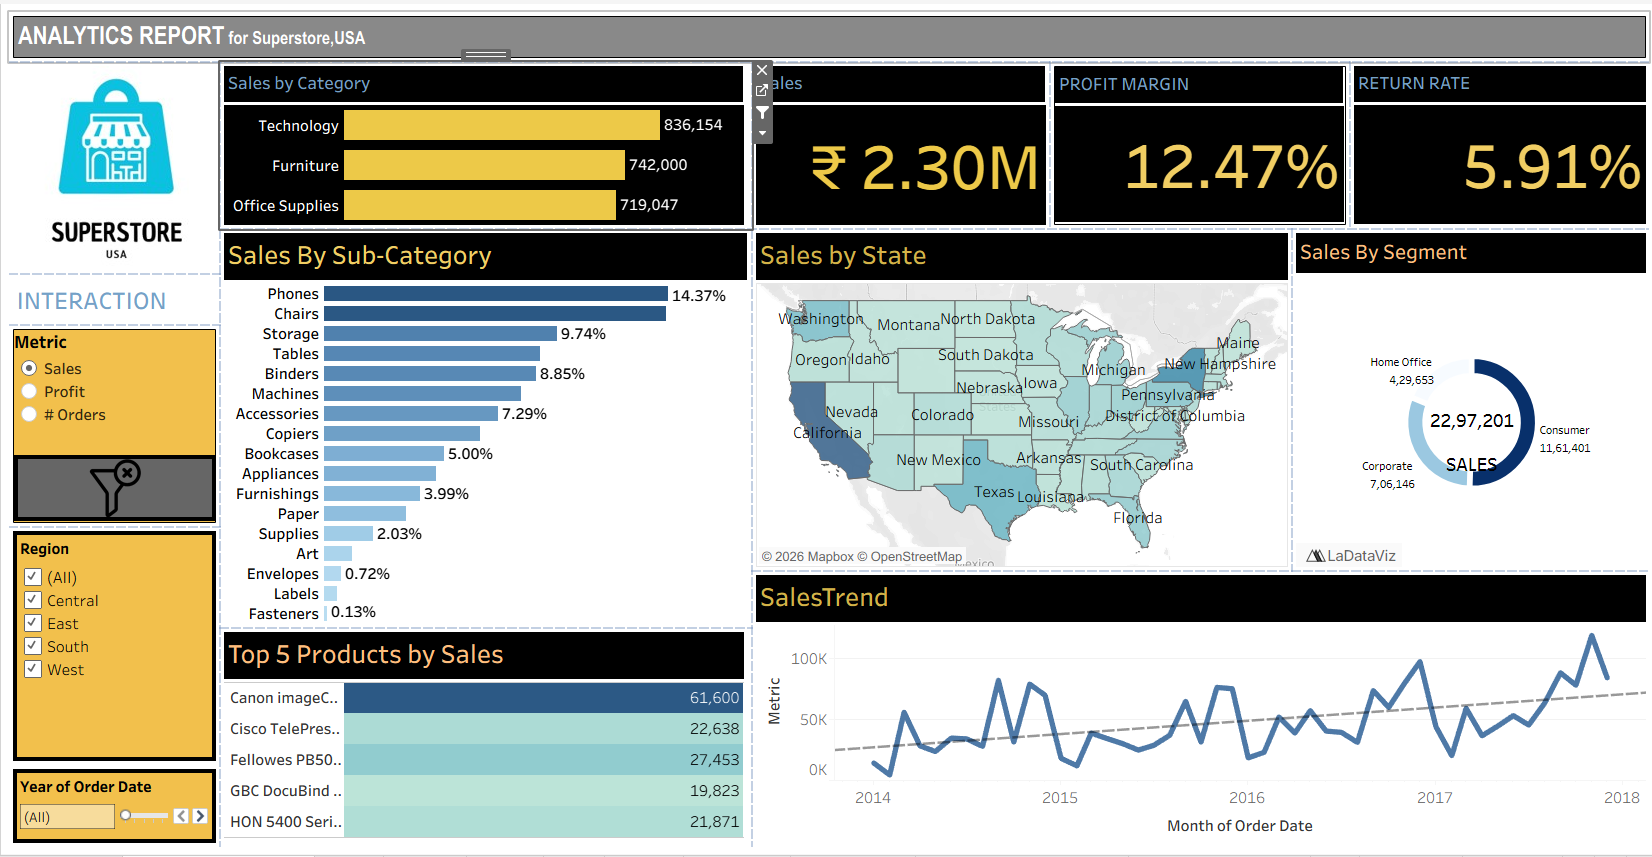

Layout of this report page (visuals, bound fields, positions):
{"tool":"tableau","page":{"name":"Assignment - 7 / Q - 7","canvas":[1000,1000],"units":"permille","ordinal":1},"visuals":[{"type":"worksheet","title":"HEADER","mark":"Text","box":[4.8,9.4,990.3,58.5]},{"type":"image","param":"Image/Picture2.jpg","box":[4.8,67.9,127.6,249.3]},{"type":"worksheet","title":"Category Chart","mark":"Automatic","rows":["Category"],"cols":["Calculation_0840322001551362"],"box":[132.4,67.9,320.9,196.3]},{"type":"worksheet","title":"Metric","mark":"Automatic","box":[453.3,67.9,179.6,196.3]},{"type":"worksheet","title":"P Margin","mark":"Automatic","box":[632.9,67.9,181,196.3]},{"type":"worksheet","title":"Return RATE","mark":"Automatic","box":[813.9,67.9,181.2,196.3]},{"type":"worksheet","title":"sales by sub-category chart","mark":"Automatic","rows":["Sub-Category"],"cols":["Calculation_0840322001551362"],"box":[132.4,264.2,320.6,468.8]},{"type":"worksheet","title":"MAP","mark":"Automatic","box":[453,264.2,326,401.8]},{"type":"worksheet","title":"Donut Chart","mark":"VizExtension","box":[779,264.2,216.2,401.8]},{"type":"text","box":[4.8,317.2,127.6,59.9]},{"type":"parameter","param":"[Parameters].[Parameter 0840322000986112]","box":[4.8,377.1,127.6,237.3]},{"type":"dashboard-object","box":[7.9,530,121.9,77.6]},{"type":"filter","title":"Metric","param":"[federated.1grep8g0hmety4196j11w1si2him].[none:Region:nk]","box":[4.8,614.4,127.6,279.8]},{"type":"worksheet","title":"Sales Trend","mark":"Automatic","rows":["Calculation_0840322001551362"],"cols":["Order Date"],"box":[453,666.1,542.1,324.6]},{"type":"worksheet","title":"top 5 products by sales","mark":"Square","rows":["Product Name"],"box":[132.4,733.1,320.6,257.6]},{"type":"filter","title":"Metric","param":"[federated.1grep8g0hmety4196j11w1si2him].[yr:Order Date:ok]","box":[4.8,894.2,127.6,96.4]}]}

Visuals, with their boxes on the dashboard's canvas, which has no fixed pixel size, in thousandths of its width and height (x1, y1, x2, y2). These are canvas units, not pixel positions in the 1652x857 screenshot, which may show the page scaled, cropped or inside an application window:
"HEADER" worksheet (Text marks): 5, 9, 995, 68
image: 5, 68, 132, 317
"Category Chart" worksheet: 132, 68, 453, 264
"Metric" worksheet: 453, 68, 633, 264
"P Margin" worksheet: 633, 68, 814, 264
"Return RATE" worksheet: 814, 68, 995, 264
"sales by sub-category chart" worksheet: 132, 264, 453, 733
"MAP" worksheet: 453, 264, 779, 666
"Donut Chart" worksheet (VizExtension marks): 779, 264, 995, 666
text: 5, 317, 132, 377
parameter: 5, 377, 132, 614
dashboard-object: 8, 530, 130, 608
"Metric" filter: 5, 614, 132, 894
"Sales Trend" worksheet: 453, 666, 995, 991
"top 5 products by sales" worksheet (Square marks): 132, 733, 453, 991
"Metric" filter: 5, 894, 132, 991
